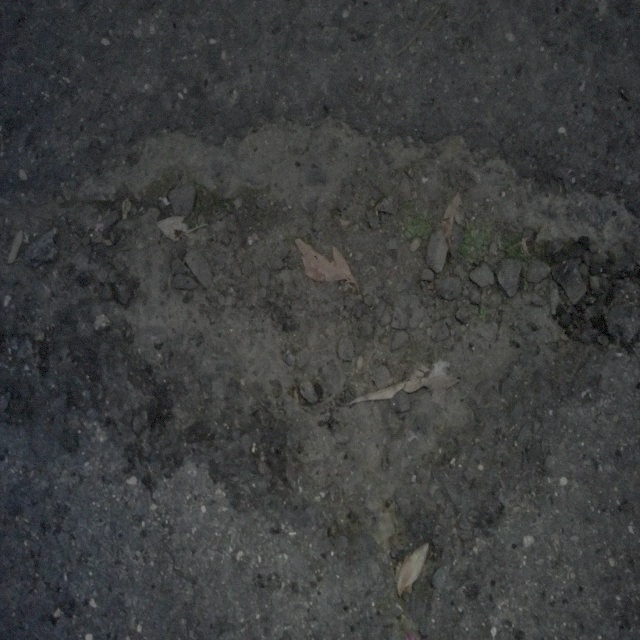pothole: (27, 105, 614, 582)
